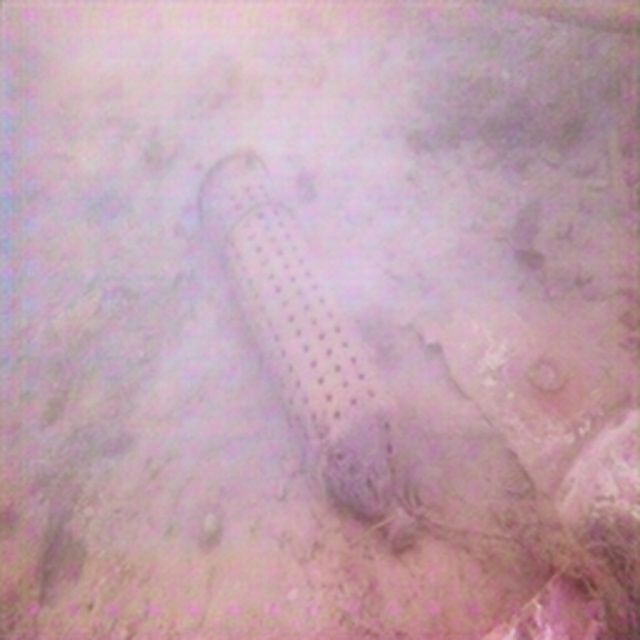mine: (193, 136, 421, 558)
